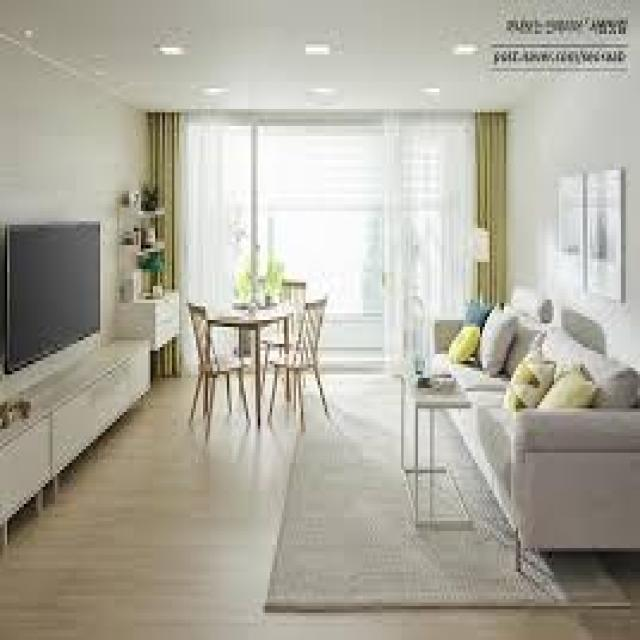Chair: (184, 294, 256, 438), (270, 294, 335, 434)
Sofa: (432, 292, 640, 579)
Table: (394, 354, 476, 532)
tv: (5, 222, 100, 368)
window: (153, 114, 505, 331)
